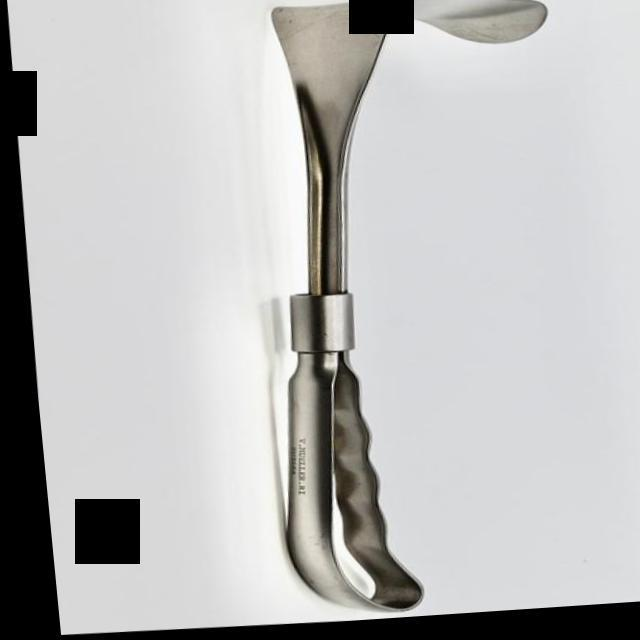Kelly Retractor: (233, 0, 602, 628)
